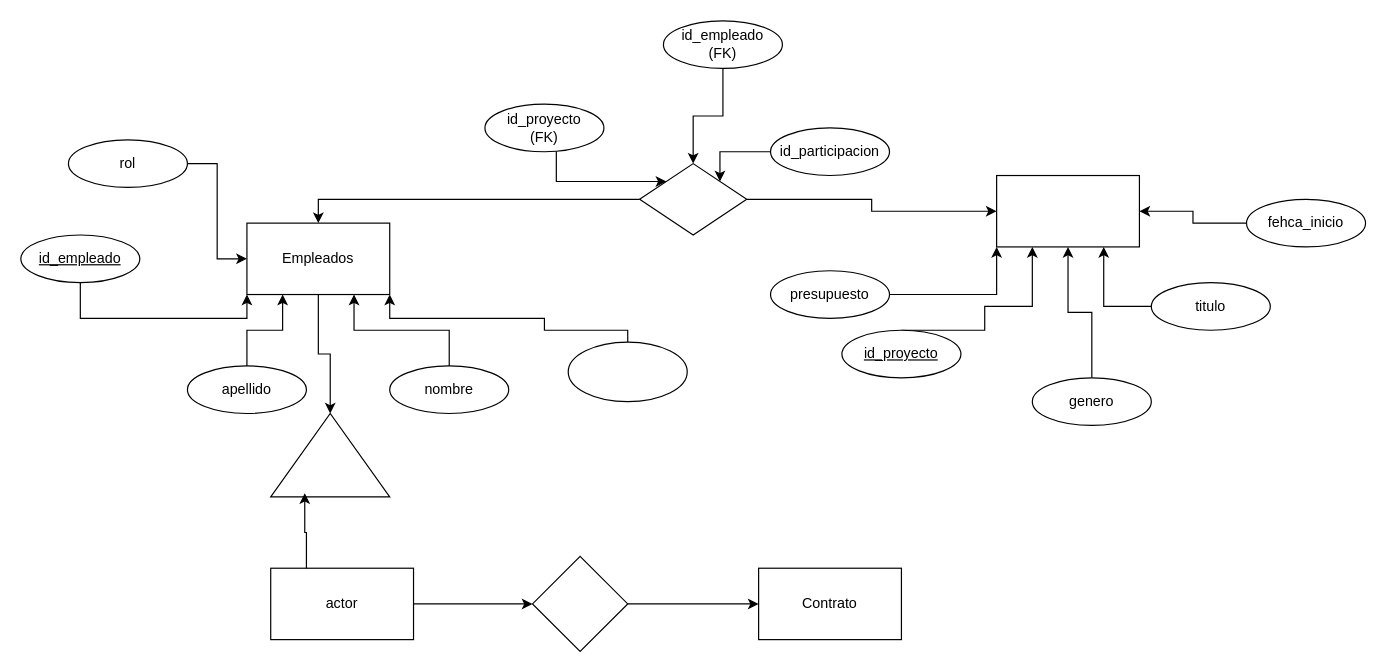
Image size: 1386x672. Some labels were removed from this diagram. Here are the shapes that lost their labels. From the top down, the centre of each, then its label:
pixel 692 198: participa
pixel 1067 210: Proyecto
pixel 627 371: dni
pixel 330 454: Es_un
pixel 579 603: tienen
